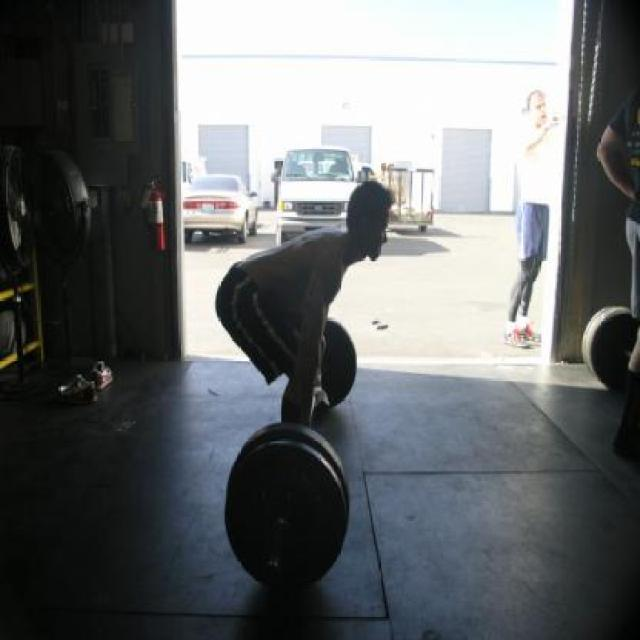barbell: (222, 415, 354, 601)
